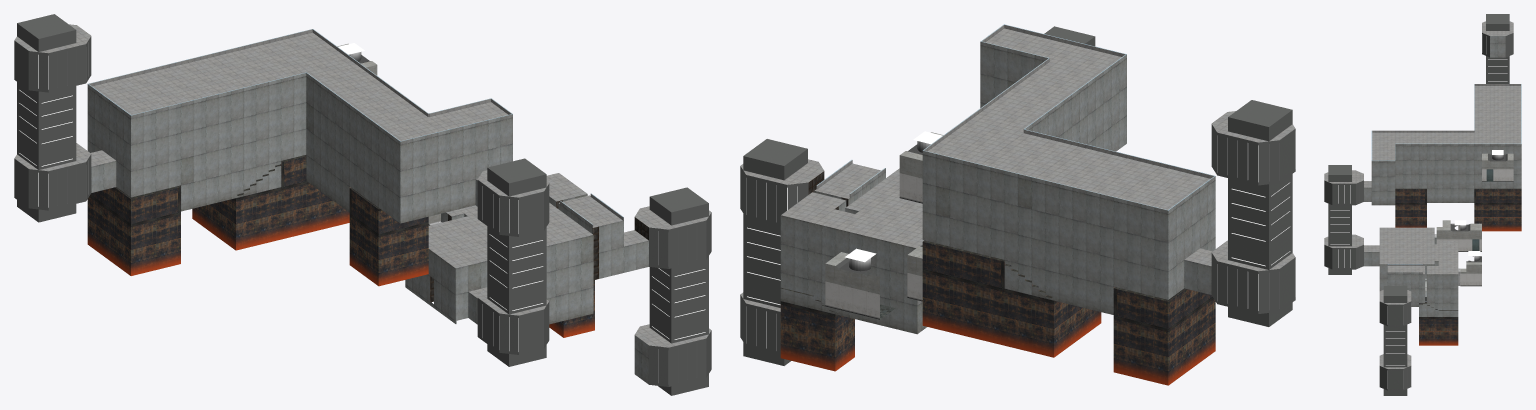
The model's file is test_chamber_03-04.glb.
The picture shows the model from 3 angles, left to right: view 1: azimuth 30°, elevation 25°; view 2: azimuth 150°, elevation 25°; view 3: azimuth 270°, elevation 25°; orthographic projection. The views are drawn at different scales.
Parts seen in each view (by area): view 1: world_geometry_184; view 2: world_geometry_184; view 3: world_geometry_184.
Part boxes in pixels (bbox=[...]): world_geometry_184: bbox=[14, 14, 711, 395]; world_geometry_184: bbox=[740, 24, 1295, 385]; world_geometry_184: bbox=[1324, 14, 1521, 395].
Bounding box in the file's own units: 57.3 × 39.01 × 30.48.
Materials: 41 (38 with a texture image).
